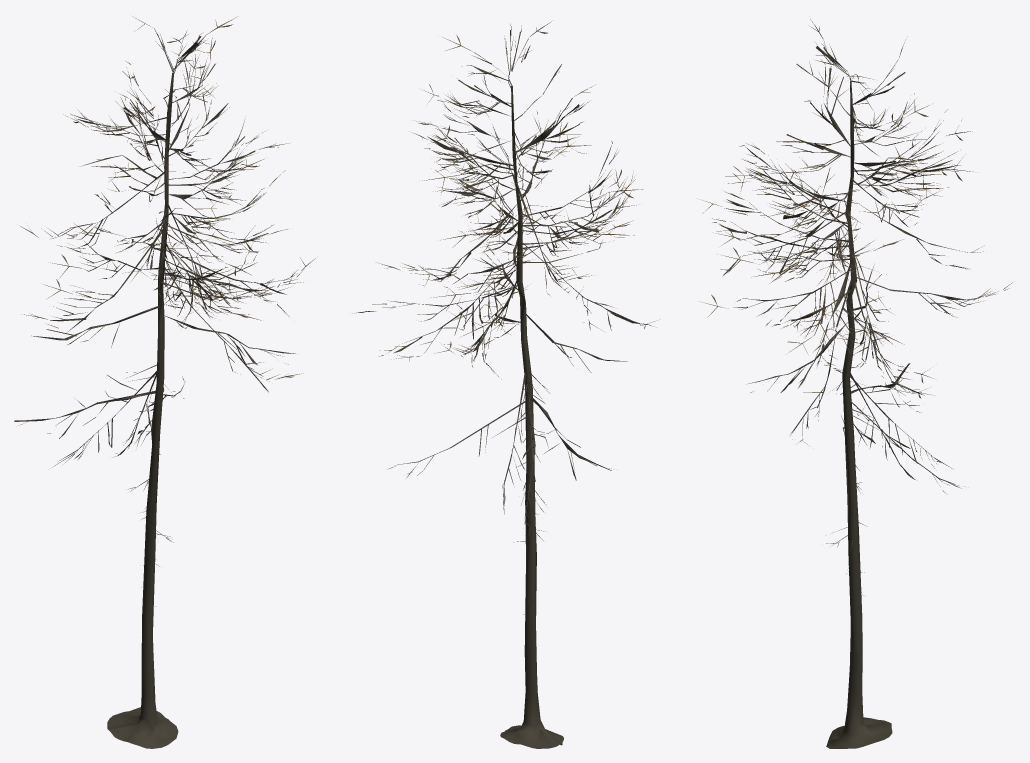
File: fir-medium.glb
3 views of the same model, side by side, from view 1: azimuth 30°, elevation 25°; view 2: azimuth 150°, elevation 25°; view 3: azimuth 270°, elevation 25° (orthographic). The views are drawn at different scales.
Visible parts, largest first — view 1: fir_tree_01_c_LOD0 baked; view 2: fir_tree_01_c_LOD0 baked; view 3: fir_tree_01_c_LOD0 baked.
Part boxes in pixels (x1,y1,x2,y2): fir_tree_01_c_LOD0 baked: (14, 16, 315, 748); fir_tree_01_c_LOD0 baked: (352, 21, 655, 748); fir_tree_01_c_LOD0 baked: (700, 19, 1012, 748).
Size of the model in its own units: 6.25 by 14.52 by 5.81.
4 materials, 4 textured.
